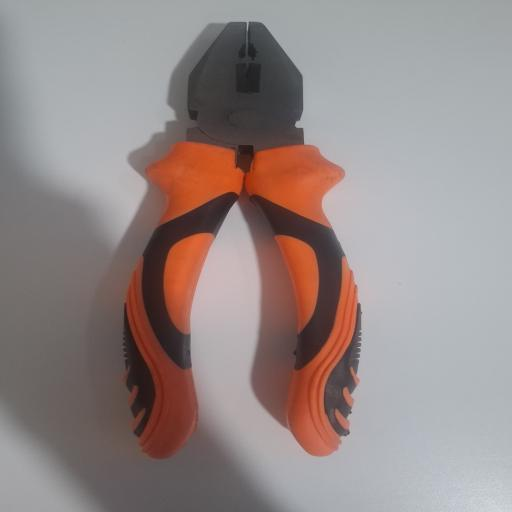alicate: (116, 18, 363, 462)
